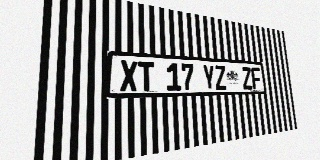1: (166, 63, 181, 91)
7: (180, 63, 195, 91)
F: (251, 67, 262, 89)
T: (138, 61, 155, 91)
X: (120, 60, 138, 92)
Y: (202, 65, 216, 90)
Z: (214, 65, 227, 90), (241, 67, 253, 89)
